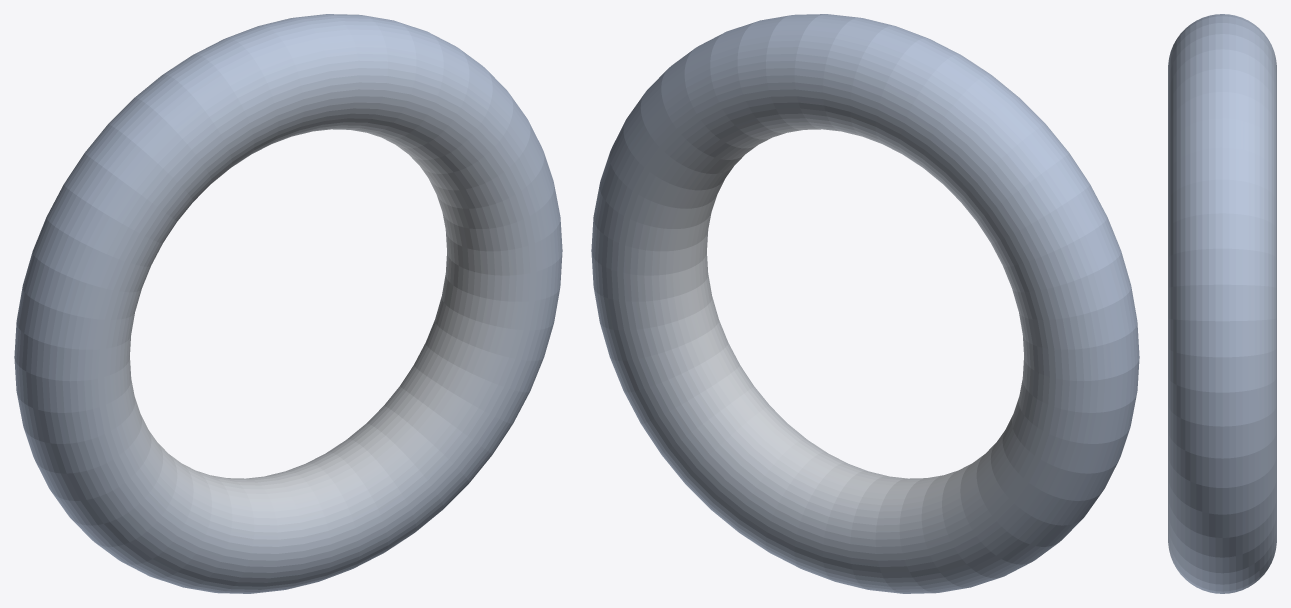
The picture shows the model from 3 angles, left to right: view 1: azimuth 30°, elevation 25°; view 2: azimuth 150°, elevation 25°; view 3: azimuth 270°, elevation 25°; orthographic projection. The views are drawn at different scales.
Parts seen in each view (by area): view 1: world; view 2: world; view 3: world.
Boxes of the visible parts, x1,y1,x2,y2 form: world: (14, 14, 562, 593); world: (591, 14, 1139, 593); world: (1168, 14, 1276, 593).
Bounding box in the file's own units: 26.27 × 26.21 × 4.92.
